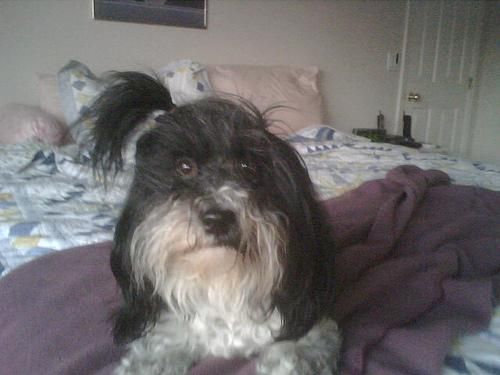dog-havanese: (110, 98, 323, 280)
